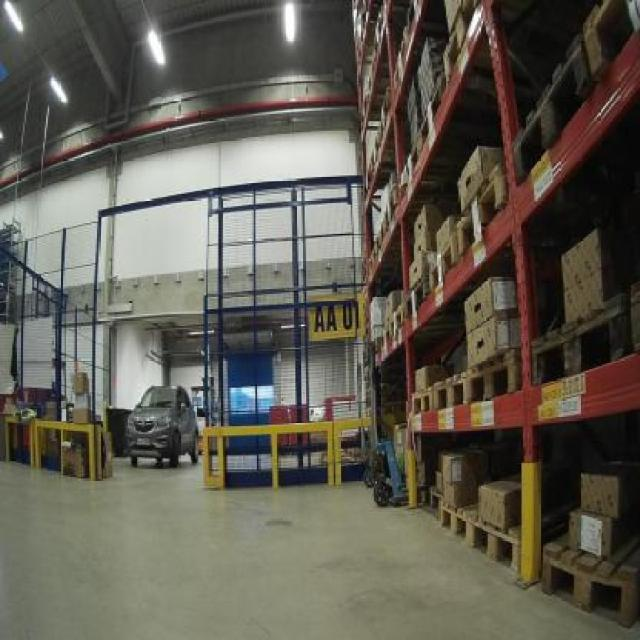ground: (0, 454, 638, 638)
pallet: (508, 33, 600, 195), (537, 525, 638, 635), (525, 290, 634, 388), (436, 494, 524, 576), (429, 345, 522, 411), (452, 159, 508, 262), (577, 0, 638, 90), (439, 1, 484, 90)
